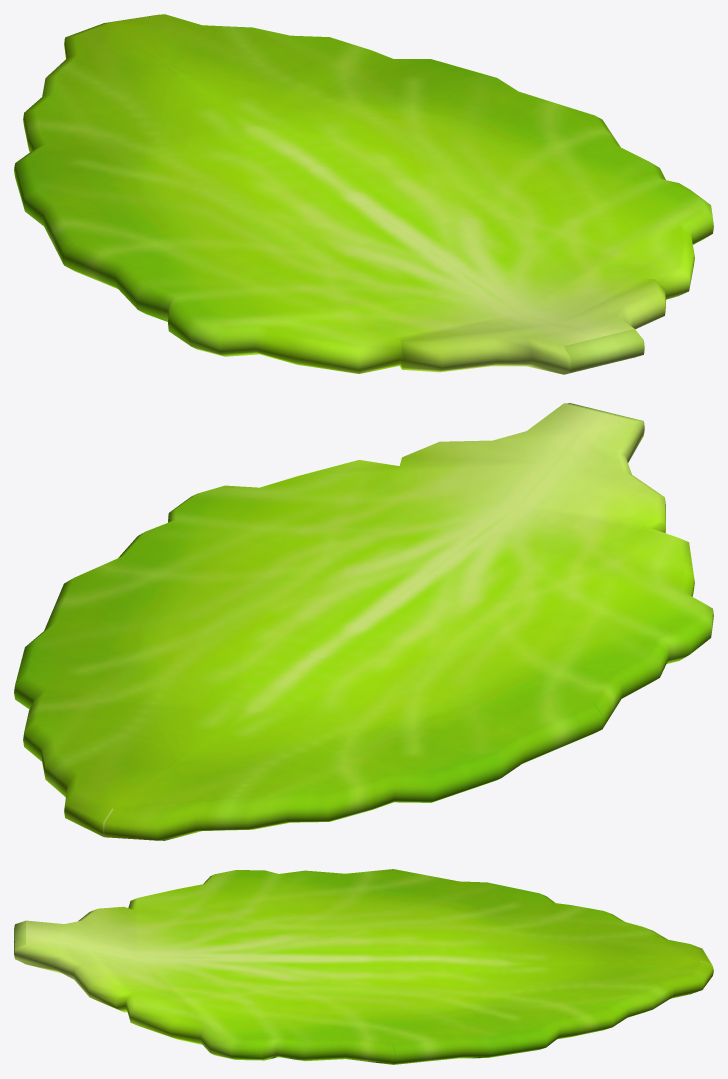
The model's file is Alface 1.fbx.
3 renders of one model, top to bottom at view 1: azimuth 30°, elevation 25°; view 2: azimuth 150°, elevation 25°; view 3: azimuth 270°, elevation 25°, orthographic. The views are drawn at different scales.
Parts seen in each view (by area): view 1: Alface; view 2: Alface; view 3: Alface.
Boxes of the visible parts, box(x1,y1,x2,y2) form: Alface: box(14, 14, 713, 374); Alface: box(14, 403, 713, 840); Alface: box(14, 869, 713, 1064).
Size of the model in its own units: 217 by 28.35 by 351.
1 material, 1 textured.
